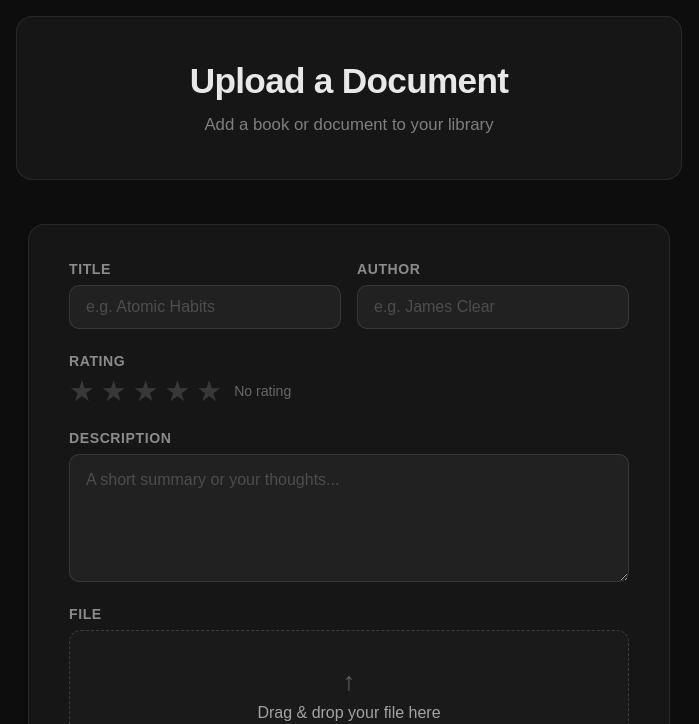
Test: Upload component › clicking a star sets the rating
This screenshot has width=699, height=724.
Note: Click 3rd star
Click the 3rd text "★". click: (146,391)
box: [133,377,158,406]
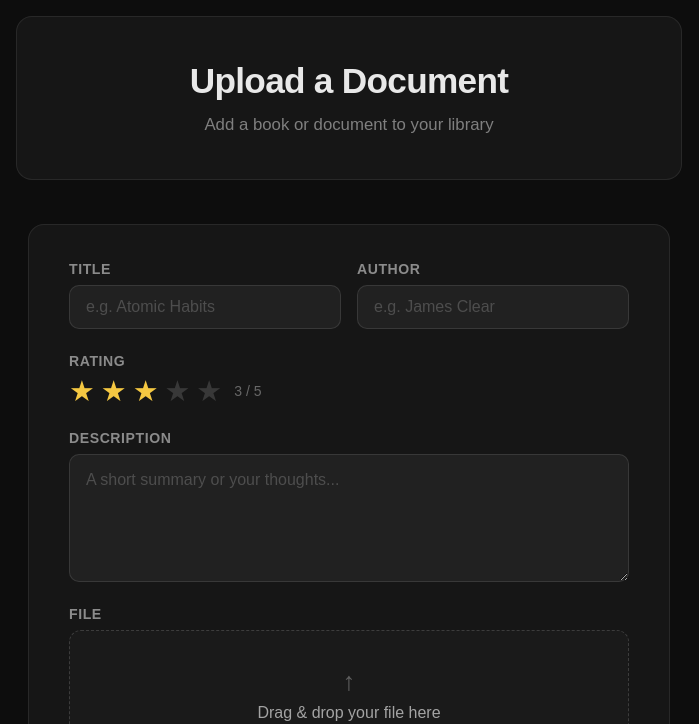
Now the text "3 / 5" is shown, box [234,383,262,399]
